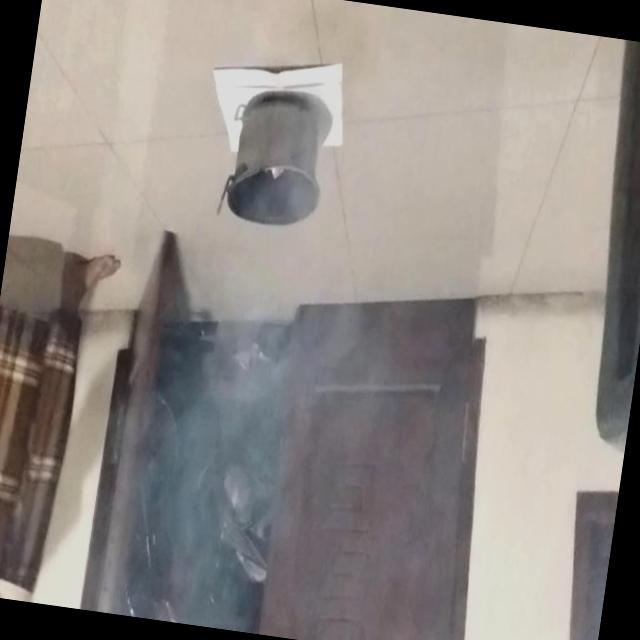smoke: (196, 262, 350, 527)
